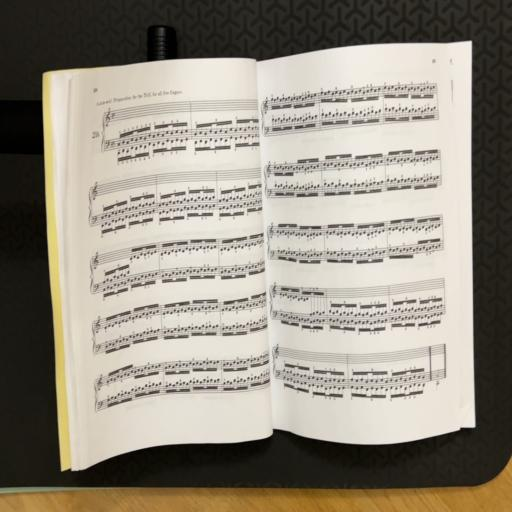paper: (9, 19, 509, 484)
